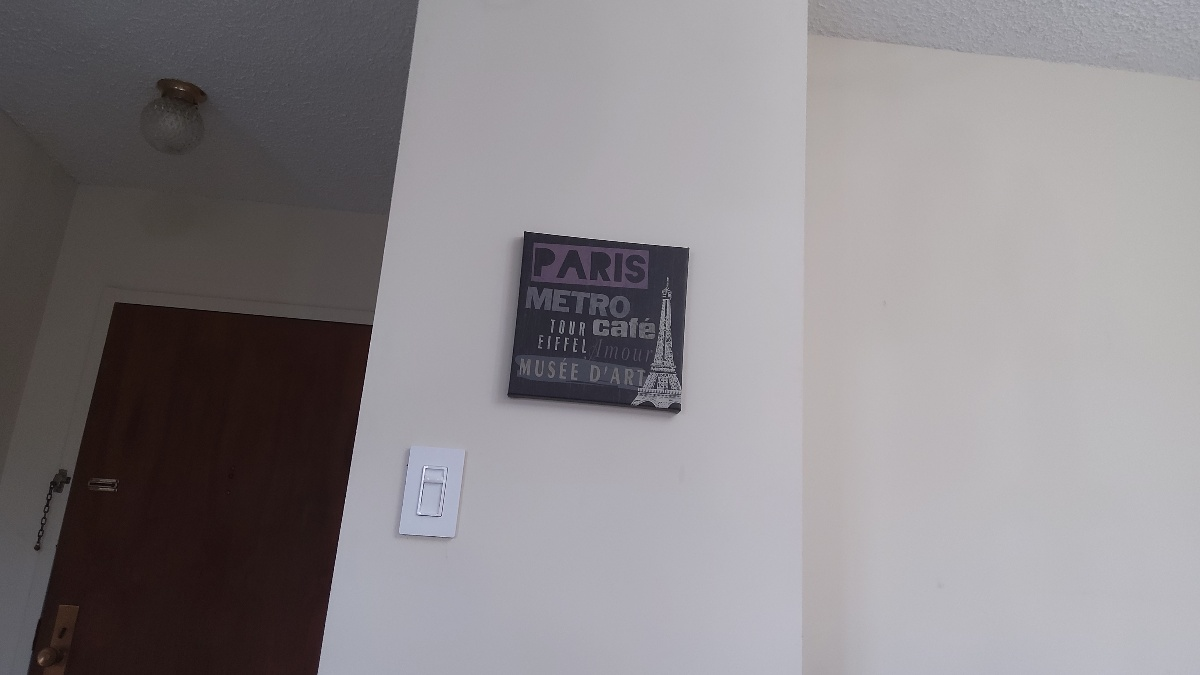poster: (508, 229, 693, 419)
